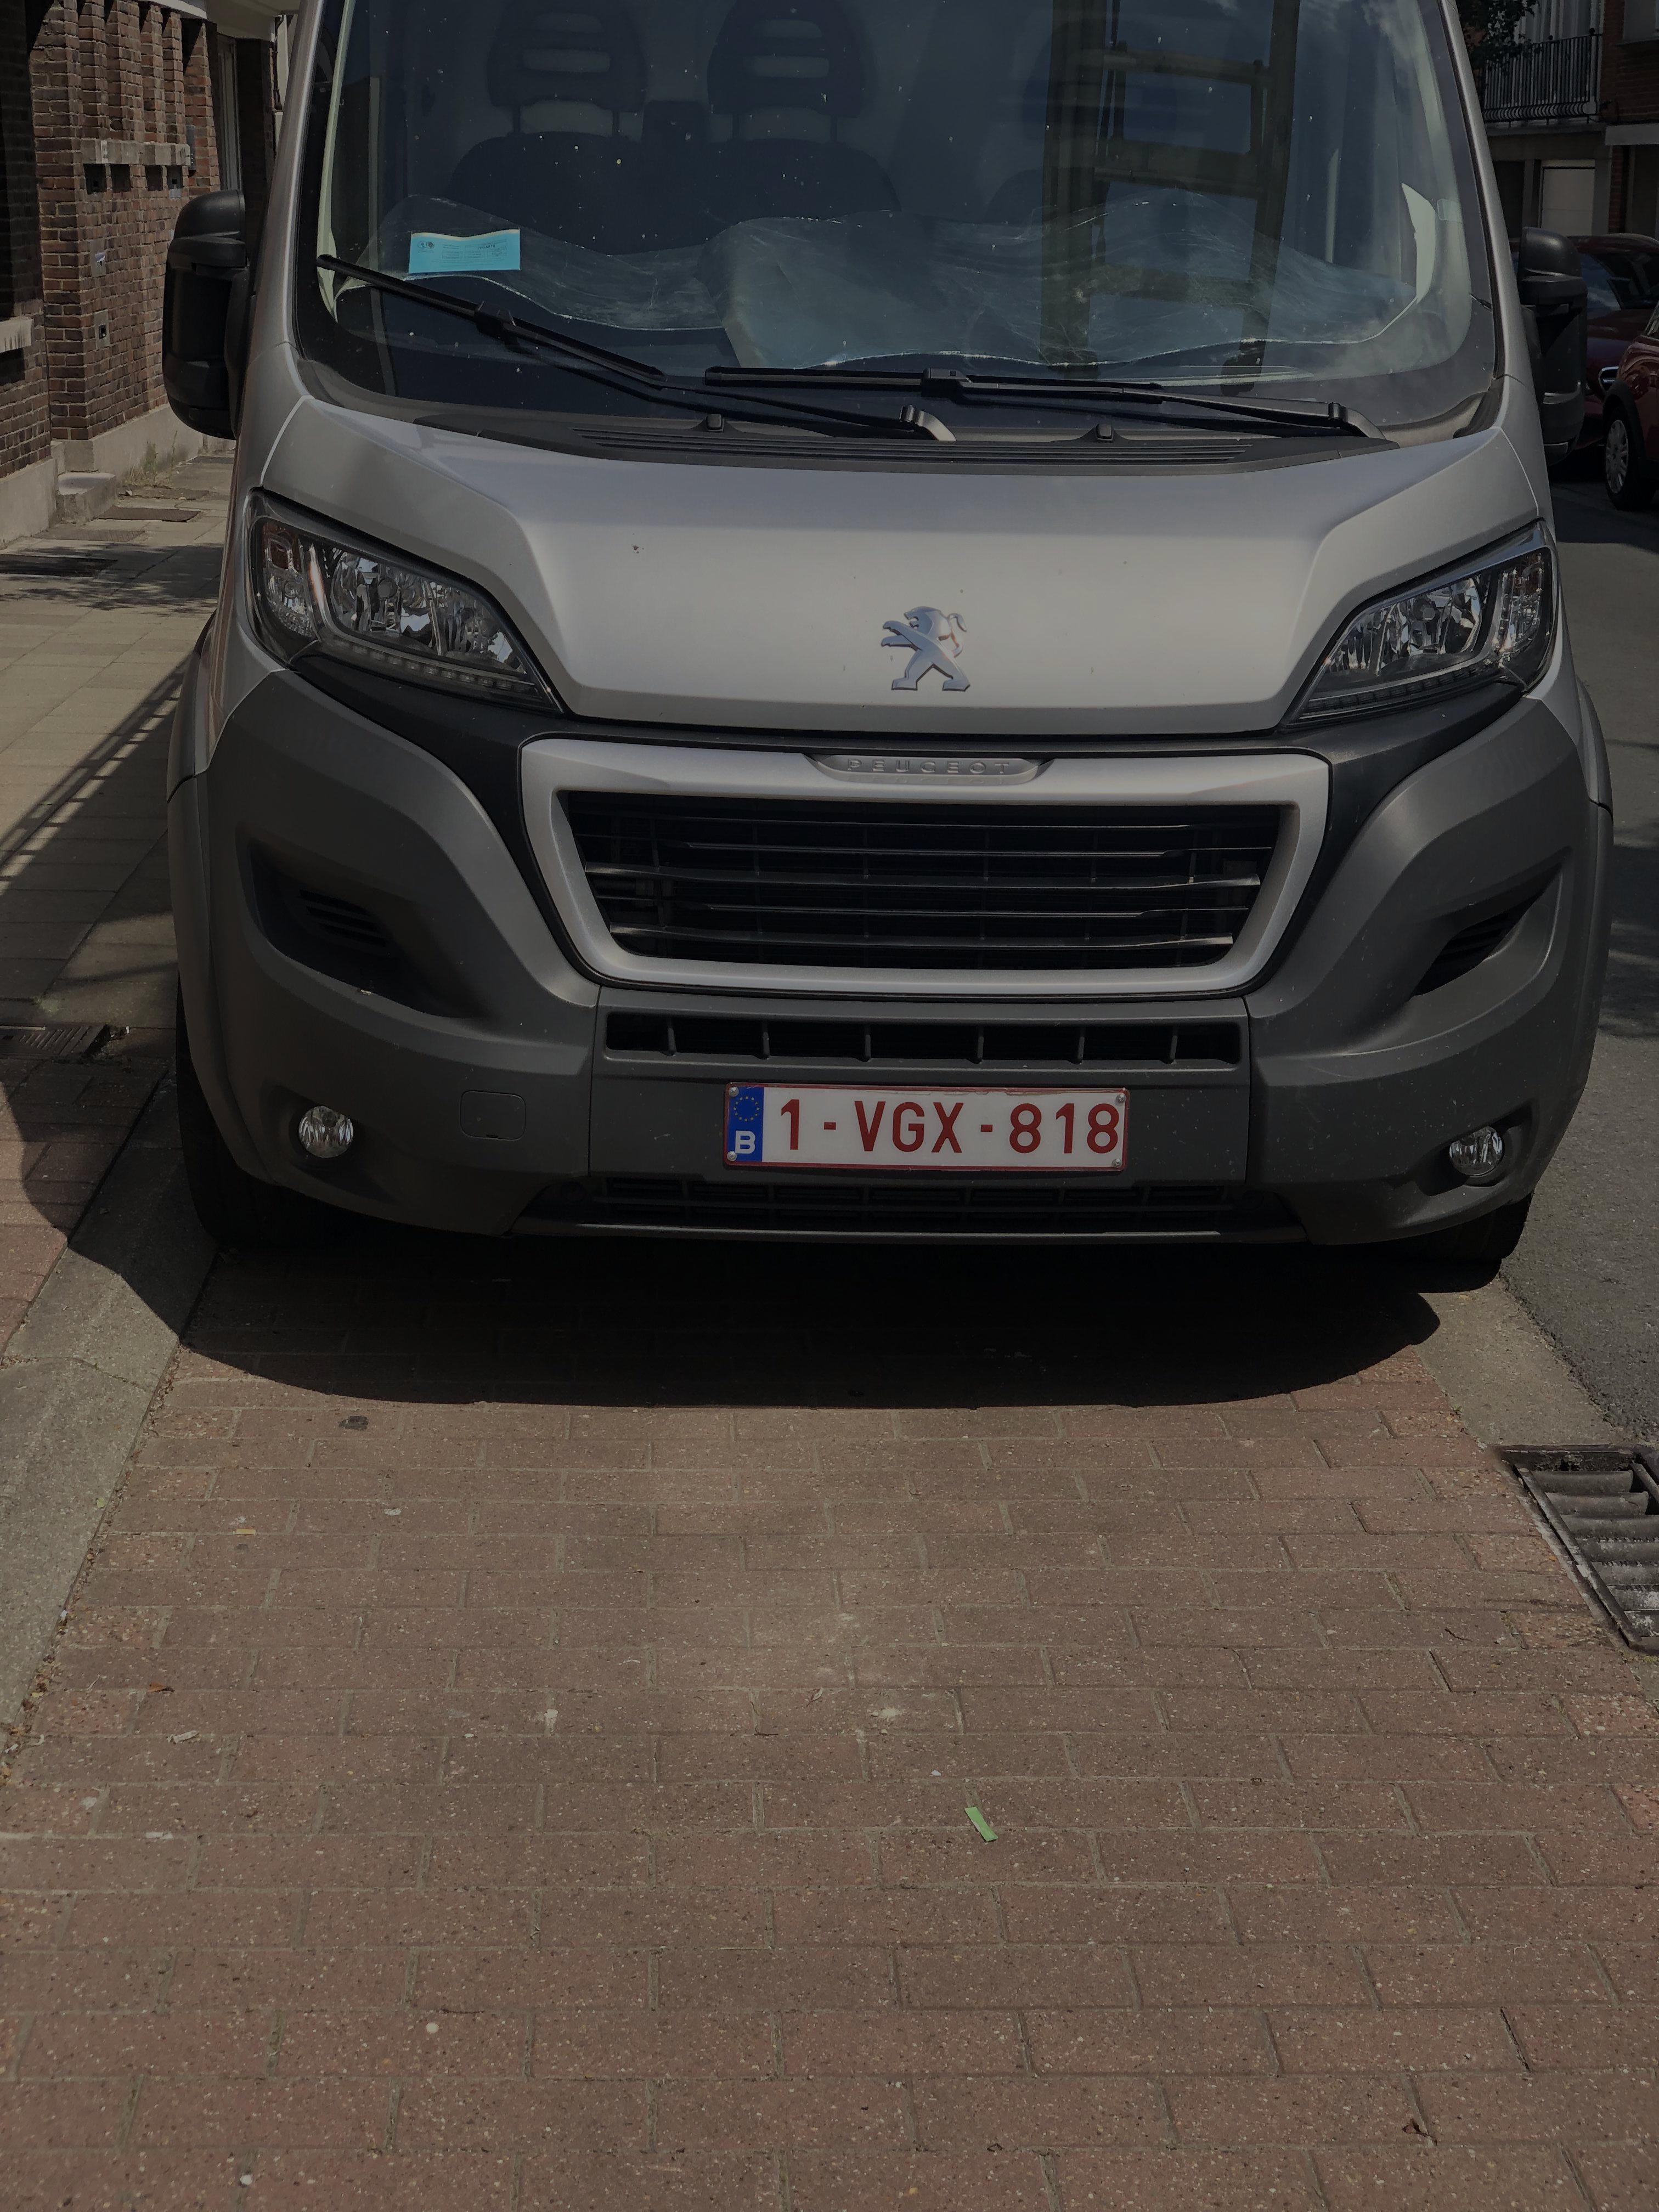plate: (704, 1061, 1147, 1187)
